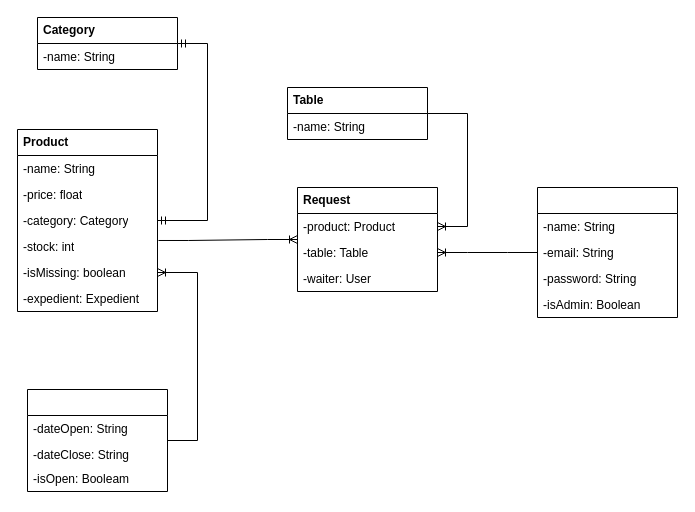
This 695x512 diagram has some shape labels left out. Each missing label, with the box of its shape:
Expedient: (26, 388, 168, 492)
User: (536, 186, 678, 318)
